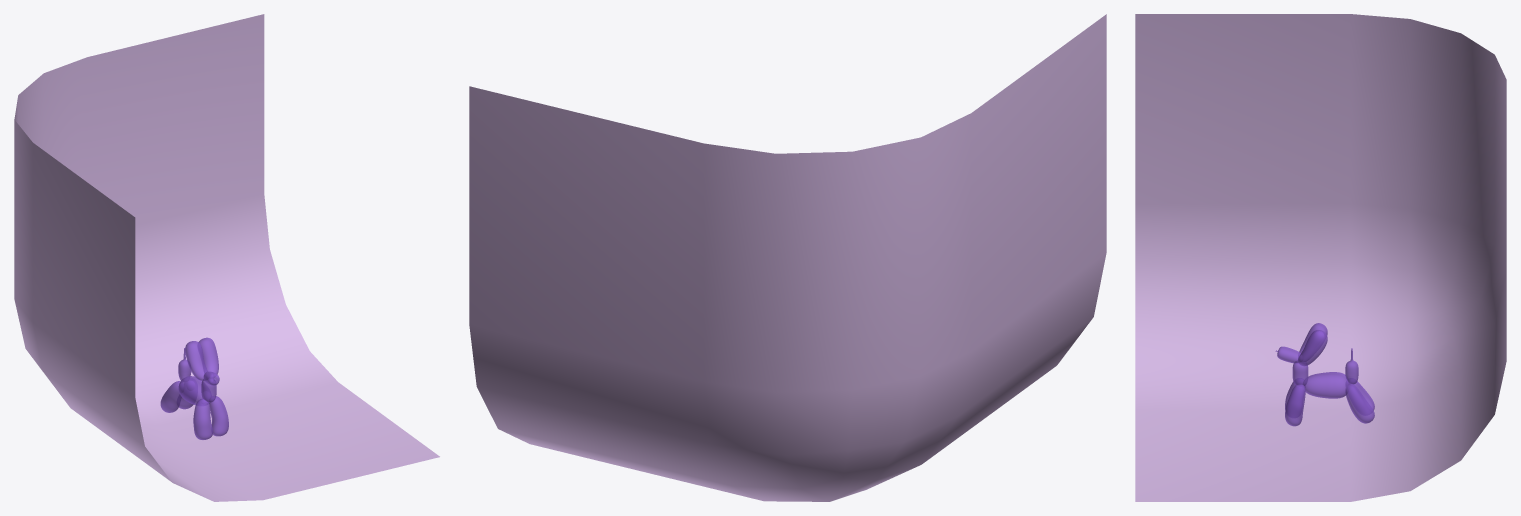
Rendered from bolloondog2.glb.
3 views of the same model, side by side, from view 1: azimuth 30°, elevation 25°; view 2: azimuth 150°, elevation 25°; view 3: azimuth 270°, elevation 25° (orthographic). The views are drawn at different scales.
Parts seen in each view (by area): view 1: 平面, Cube.001, Cube.006, Cube.002, Cube; view 2: 平面; view 3: 平面, Cube, Cube.002, Cube.006, Cube.001.
Part boxes in pixels (left/top/right/bottom): 平面: left=14, top=14, right=439, bottom=501; Cube.001: left=193, top=396, right=228, bottom=439; Cube.006: left=185, top=337, right=218, bottom=380; Cube.002: left=160, top=380, right=195, bottom=412; Cube: left=178, top=376, right=210, bottom=405; 平面: left=469, top=14, right=1106, bottom=501; 平面: left=1135, top=14, right=1506, bottom=501; Cube: left=1303, top=372, right=1349, bottom=398; Cube.002: left=1345, top=381, right=1374, bottom=423; Cube.006: left=1298, top=323, right=1327, bottom=366; Cube.001: left=1285, top=378, right=1305, bottom=426.
Bounding box in the file's own units: 26.55 × 26.09 × 26.55.
